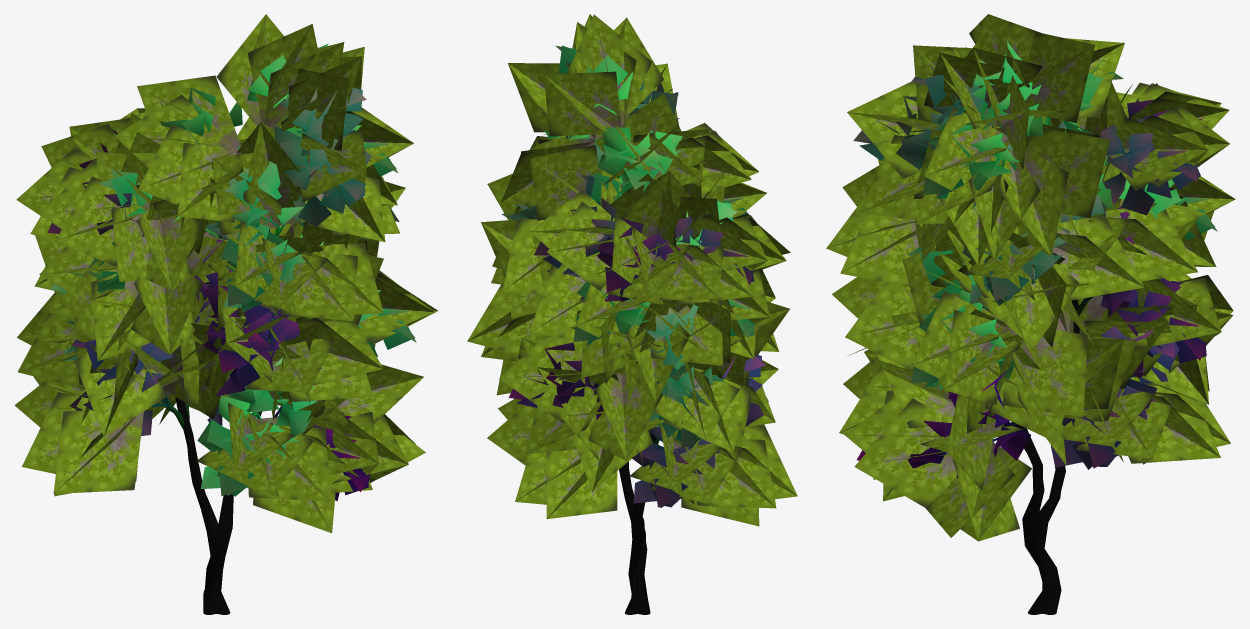
The model's file is Gen02_04Elm01c.fbx.
The picture shows the model from 3 angles, left to right: view 1: azimuth 30°, elevation 25°; view 2: azimuth 150°, elevation 25°; view 3: azimuth 270°, elevation 25°; orthographic projection. The views are drawn at different scales.
Visible parts, largest first — view 1: Tree_1, Tree_2, Tree_0; view 2: Tree_1, Tree_2, Tree_0; view 3: Tree_1, Tree_2, Tree_0.
Boxes of the visible parts, bbox=[...] form: Tree_1: bbox=[14, 14, 437, 533]; Tree_2: bbox=[47, 43, 416, 501]; Tree_0: bbox=[131, 130, 305, 614]; Tree_1: bbox=[467, 14, 797, 526]; Tree_2: bbox=[501, 45, 768, 507]; Tree_0: bbox=[585, 133, 677, 614]; Tree_1: bbox=[826, 14, 1235, 541]; Tree_2: bbox=[853, 41, 1217, 477]; Tree_0: bbox=[945, 97, 1130, 614].
Bounding box in the file's own units: 74.27 × 121 × 70.65.
